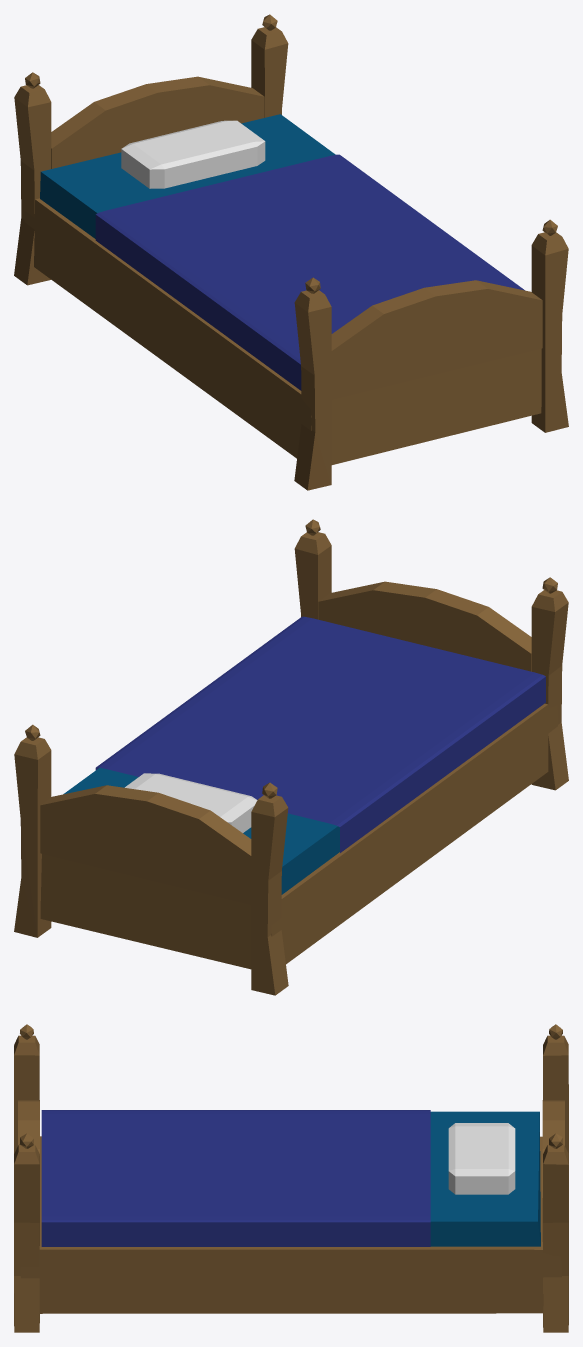
Rendered from bed_1.fbx.
3 views of the same model, one above another, from view 1: azimuth 30°, elevation 25°; view 2: azimuth 150°, elevation 25°; view 3: azimuth 270°, elevation 25° (orthographic). The views are drawn at different scales.
Visible parts, largest first — view 1: Bedsheet, BottomPart, MiddlePart, Legs, Mattress, Pillow; view 2: Bedsheet, BottomPart, MiddlePart, Legs, Mattress, Pillow; view 3: Bedsheet, BottomPart, Legs, Mattress, Pillow, MiddlePart.
Part boxes in pixels (x1,y1,x2,y2): Bedsheet: (95, 154, 524, 390); BottomPart: (24, 198, 541, 464); MiddlePart: (51, 76, 542, 399); Legs: (14, 14, 568, 490); Mattress: (40, 114, 335, 238); Pillow: (121, 120, 265, 188); Bedsheet: (95, 616, 545, 852); BottomPart: (40, 703, 557, 969); MiddlePart: (40, 581, 531, 904); Legs: (14, 519, 568, 995); Mattress: (63, 767, 339, 894); Pillow: (125, 773, 257, 832); Bedsheet: (41, 1110, 430, 1246); BottomPart: (20, 1136, 561, 1313); Legs: (14, 1024, 568, 1332); Mattress: (430, 1111, 540, 1246); Pillow: (448, 1123, 515, 1194); MiddlePart: (18, 1100, 564, 1241).
Size of the model in its own units: 4.03 by 3.03 by 7.85.
